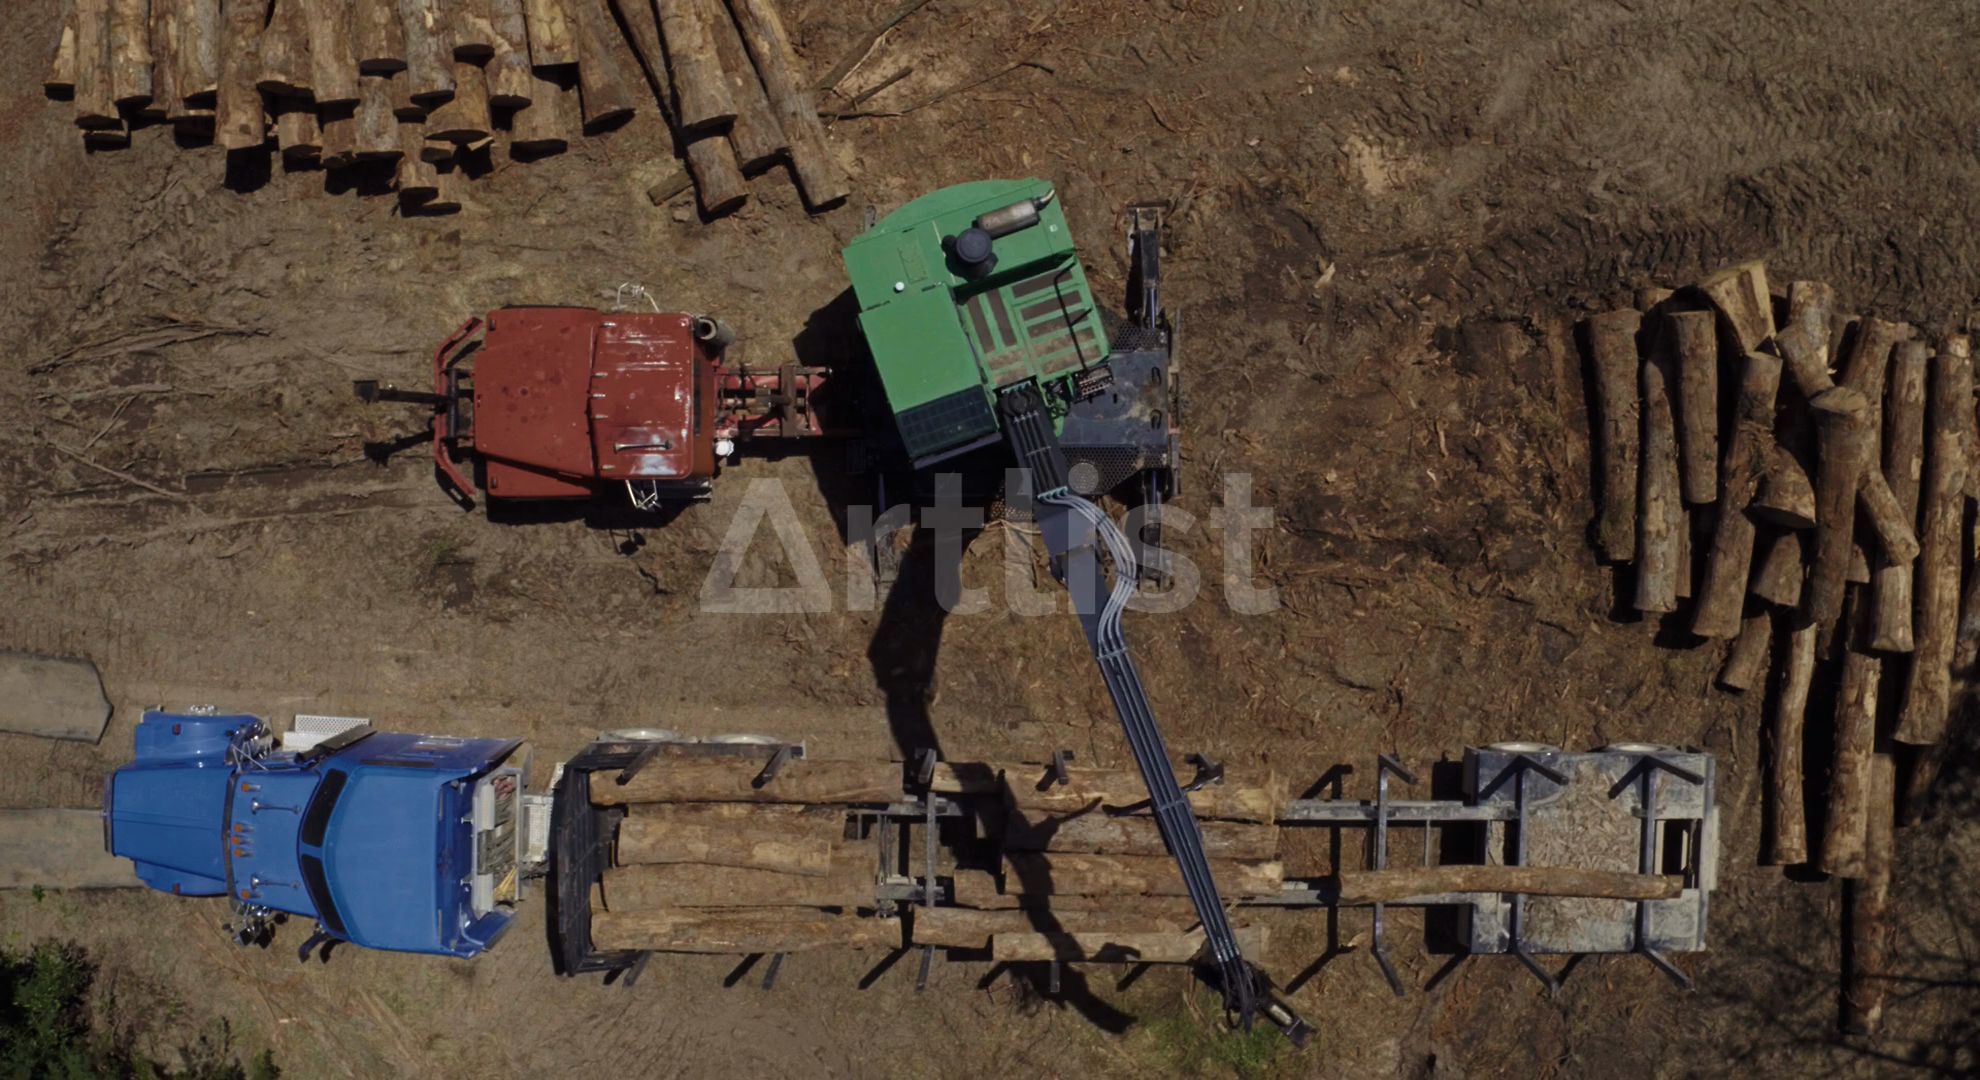logger: (428, 279, 1207, 591)
truck: (118, 696, 1727, 1013)
wood: (1618, 311, 1951, 644), (939, 742, 1279, 987), (100, 9, 564, 170), (566, 753, 896, 962), (1763, 670, 1941, 1021), (614, 5, 854, 205), (1339, 865, 1682, 912)
